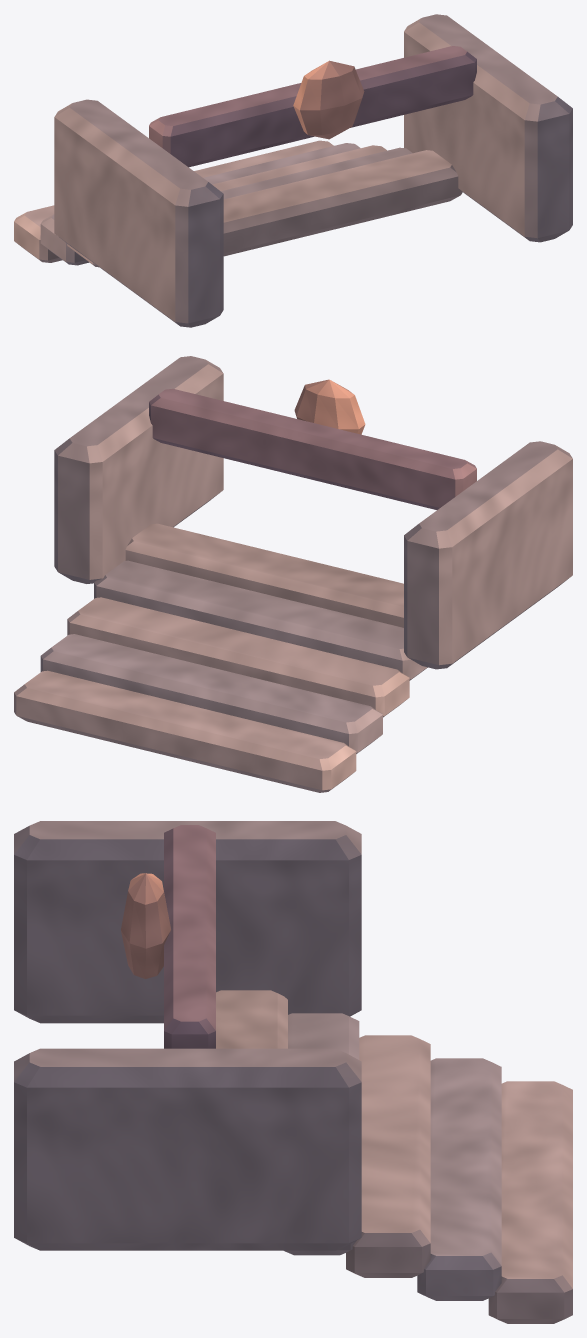
File: dusk_seal.glb
The picture shows the model from 3 angles, top to bottom: view 1: azimuth 30°, elevation 25°; view 2: azimuth 150°, elevation 25°; view 3: azimuth 270°, elevation 25°; orthographic projection. The views are drawn at different scales.
Visible parts, largest first — view 1: Versiegelter Abstieg; view 2: Versiegelter Abstieg; view 3: Versiegelter Abstieg.
Part boxes in pixels (x1,y1,x2,y2): Versiegelter Abstieg: (14, 14, 572, 327); Versiegelter Abstieg: (14, 356, 572, 792); Versiegelter Abstieg: (14, 821, 572, 1323).
Bounding box in the file's own units: 1.48 × 0.937 × 1.35.
1 material, 1 textured.
